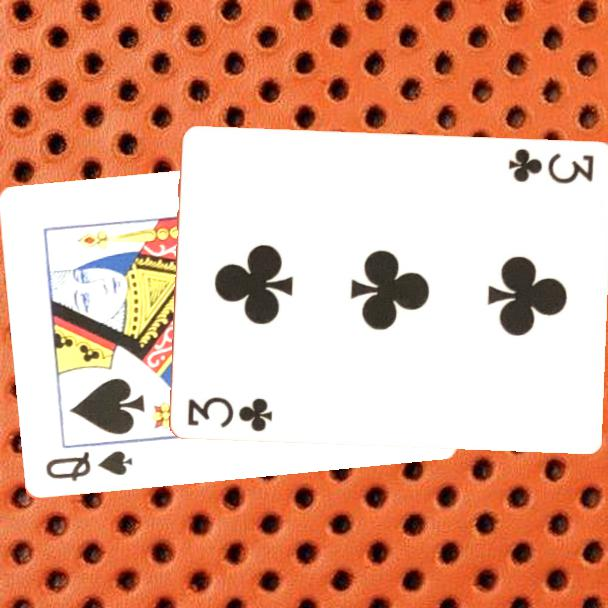c03: (505, 144, 598, 186), (184, 393, 276, 434)
s12: (42, 447, 135, 485)
